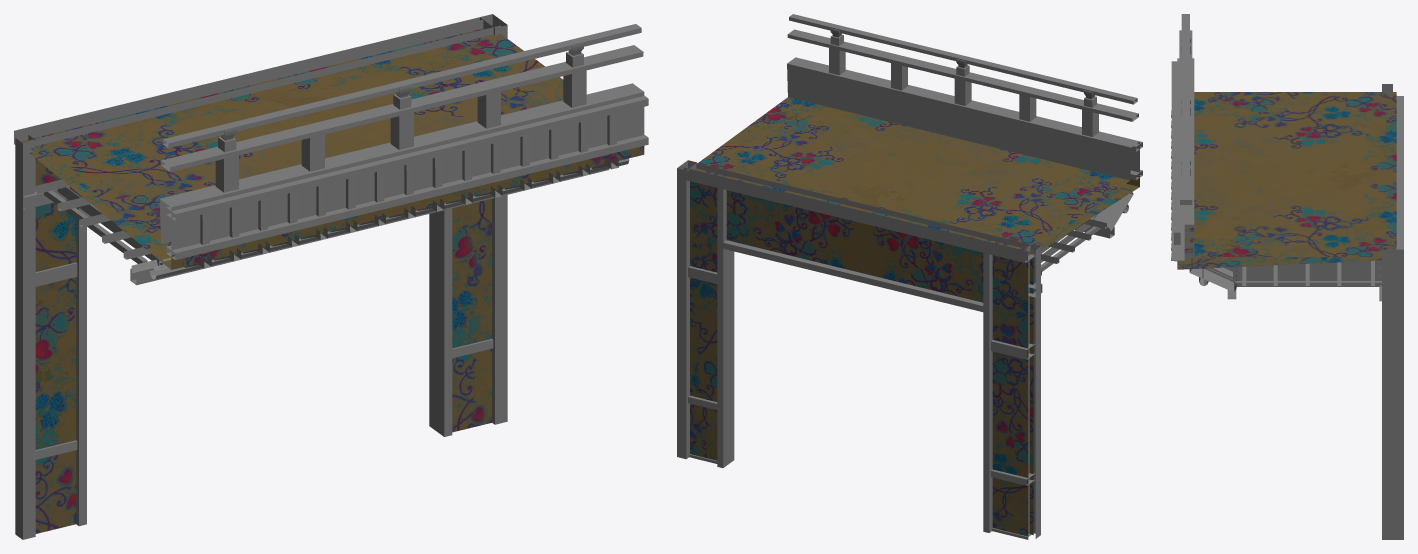
File: FL1_Main_Entrance.fbx
3 views of the same model, side by side, from view 1: azimuth 30°, elevation 25°; view 2: azimuth 150°, elevation 25°; view 3: azimuth 270°, elevation 25° (orthographic). The views are drawn at different scales.
Parts seen in each view (by area): view 1: FL1_Main_Entrance; view 2: FL1_Main_Entrance; view 3: FL1_Main_Entrance.
Boxes of the visible parts, <box> form: FL1_Main_Entrance: <box>14,14,648,539</box>; FL1_Main_Entrance: <box>677,14,1142,539</box>; FL1_Main_Entrance: <box>1171,14,1403,539</box>.
Size of the model in its own units: 513 by 502 by 296.
